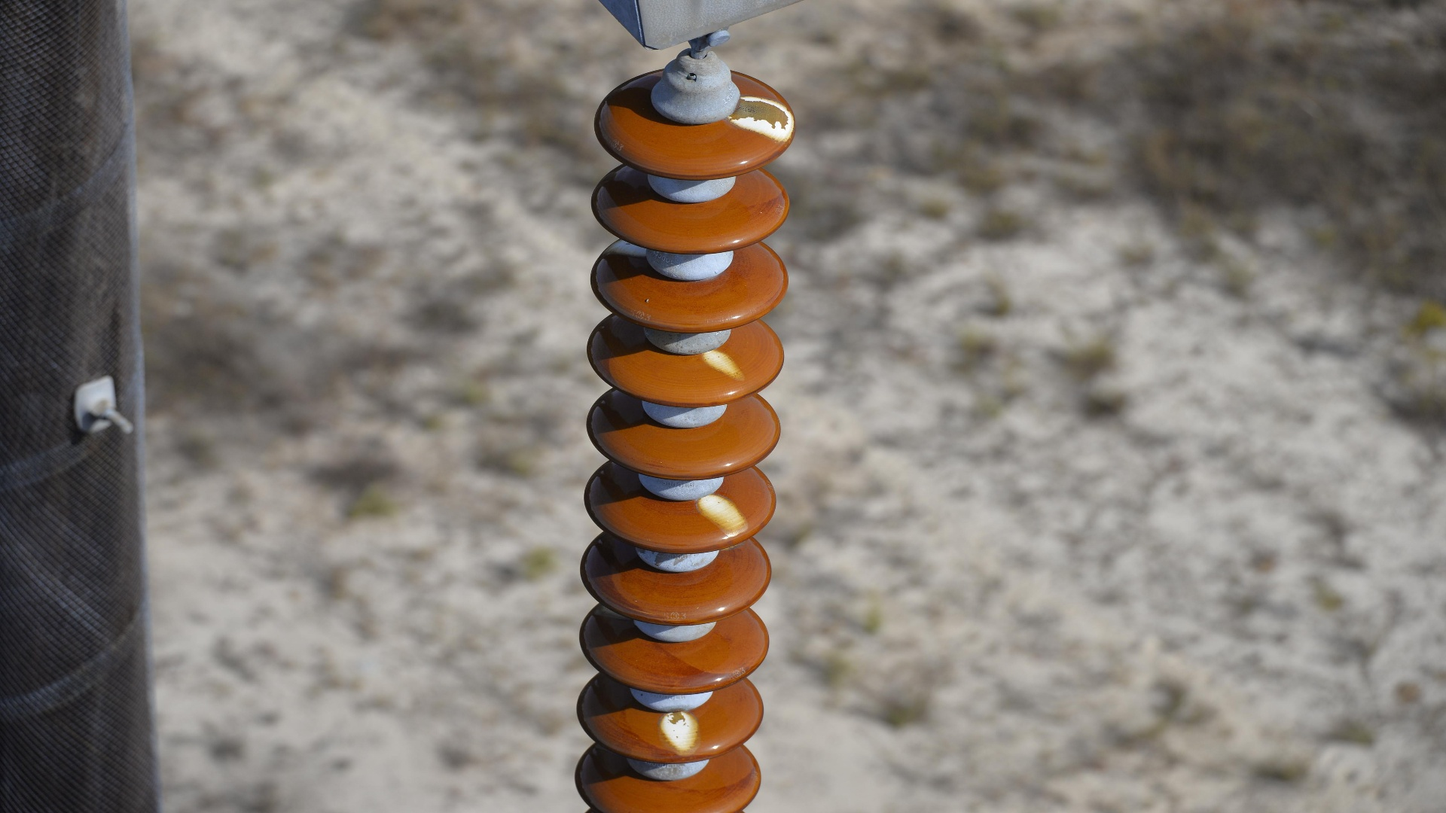insulator: (568, 65, 801, 813)
